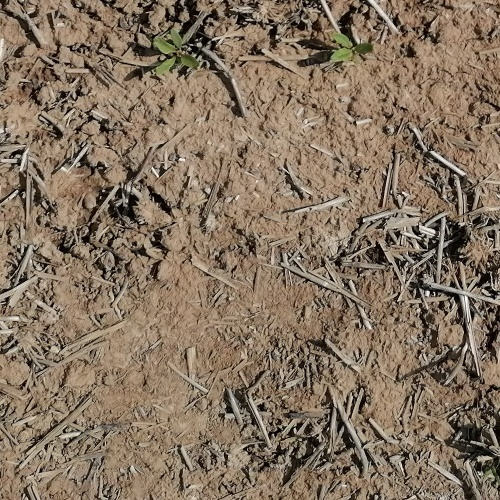beet: (155, 28, 202, 74), (327, 34, 374, 65)
